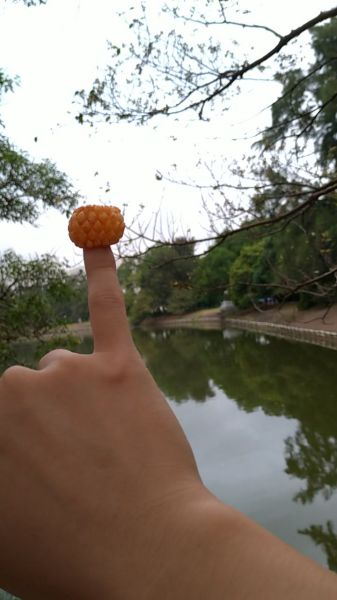eggs: (68, 205, 124, 247)
